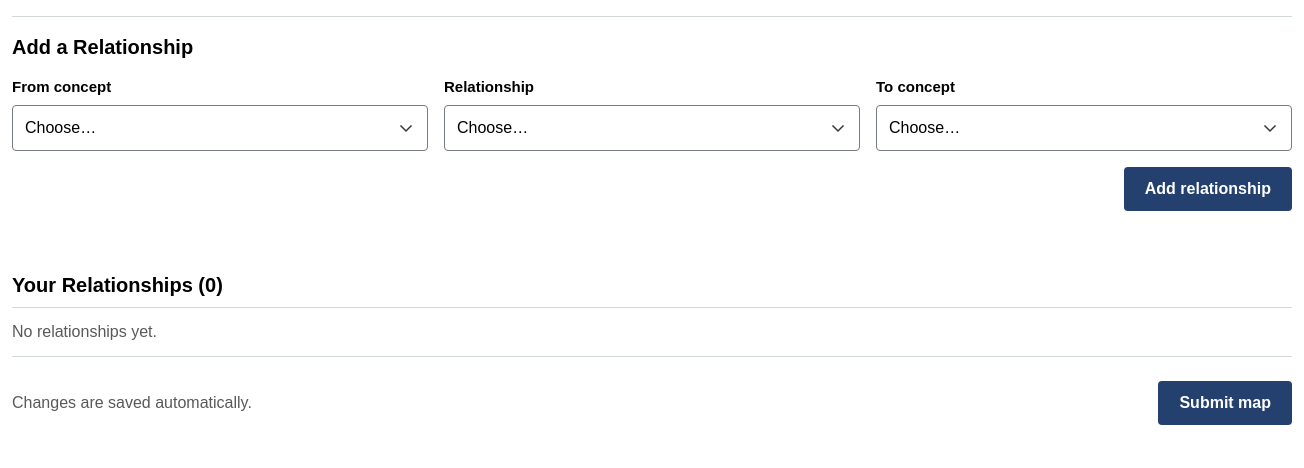
it: ConceptMapEditor (keyboard path) › creates a typed, directed relationship with labelled selects and keyboard only
The image size is (1304, 468).
Select "Alpha" in the dropdown labelled "From concept" at (220, 128), box [12,105,428,151]
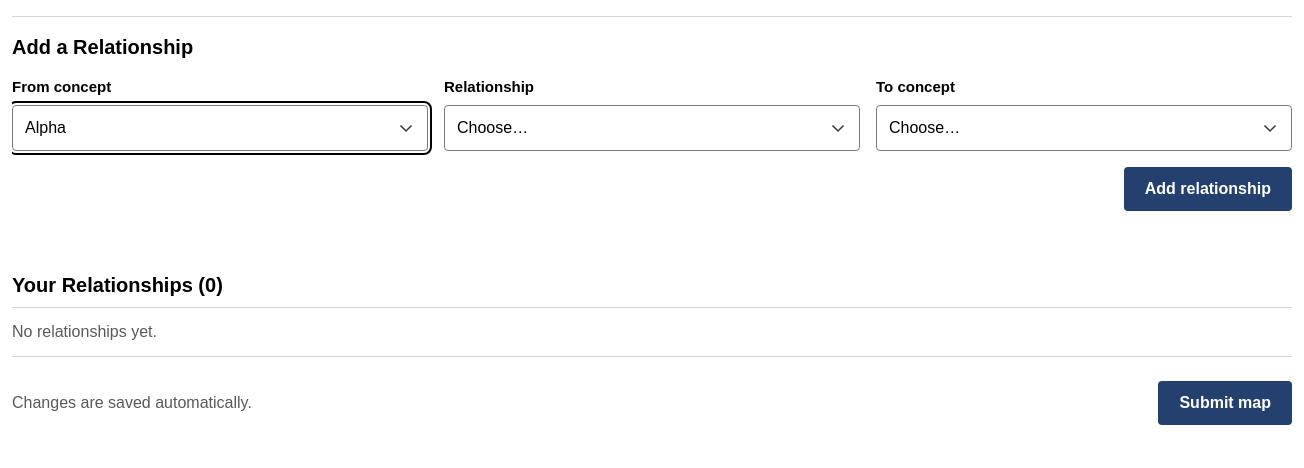
Select "precedes" in the dropdown labelled "Relationship" at (652, 128), box [444,105,860,151]
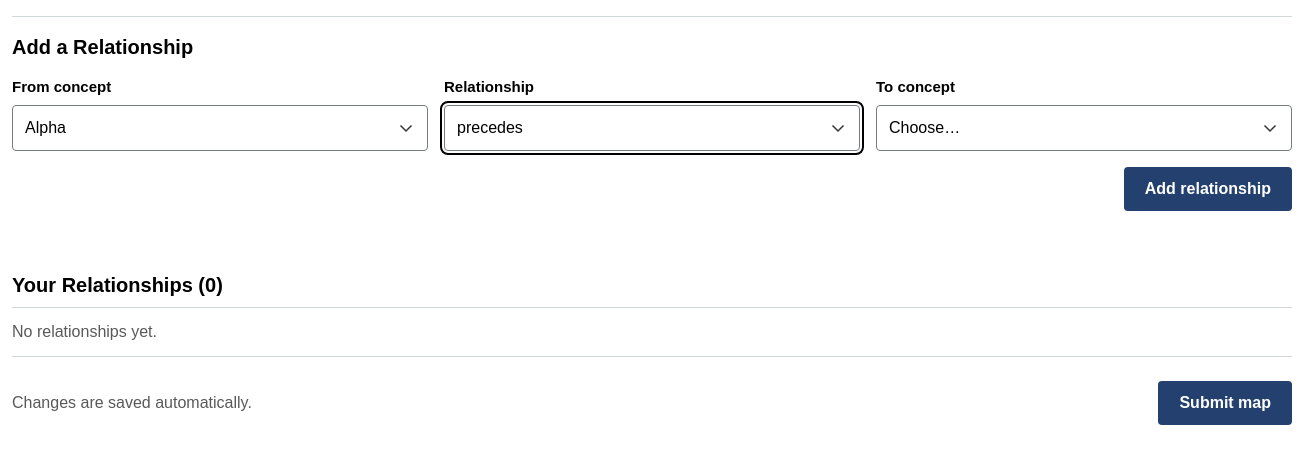
Select "Beta" in the dropdown labelled "To concept" at (1084, 128), box [876,105,1292,151]
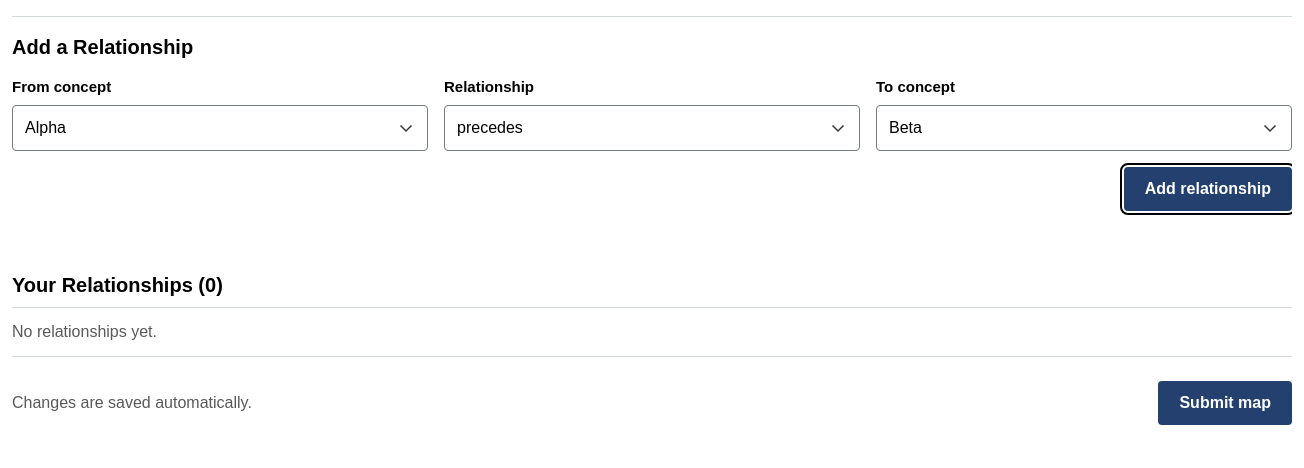
Press Enter
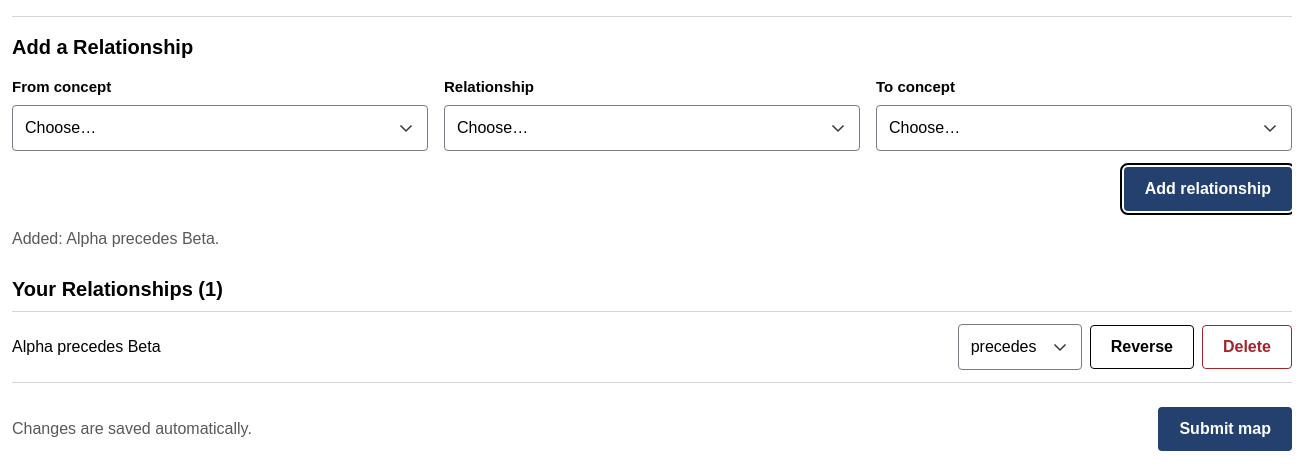
Check: the text "Alpha precedes Beta" is shown, box [12,335,160,359]
Check: the button with aria-label "Reverse: Alpha precedes Beta" is enabled, box [1090,325,1194,369]
Check: the button with aria-label "Delete: Alpha precedes Beta" is shown, box [1202,325,1292,369]
